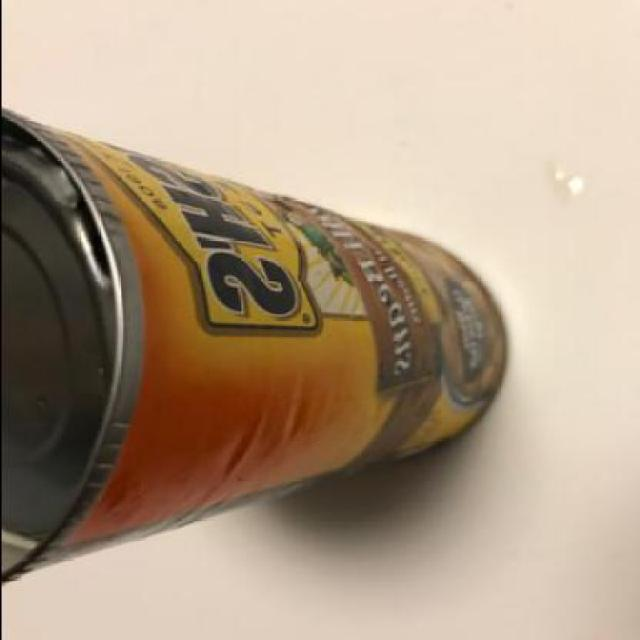METAL: (2, 103, 504, 588)
